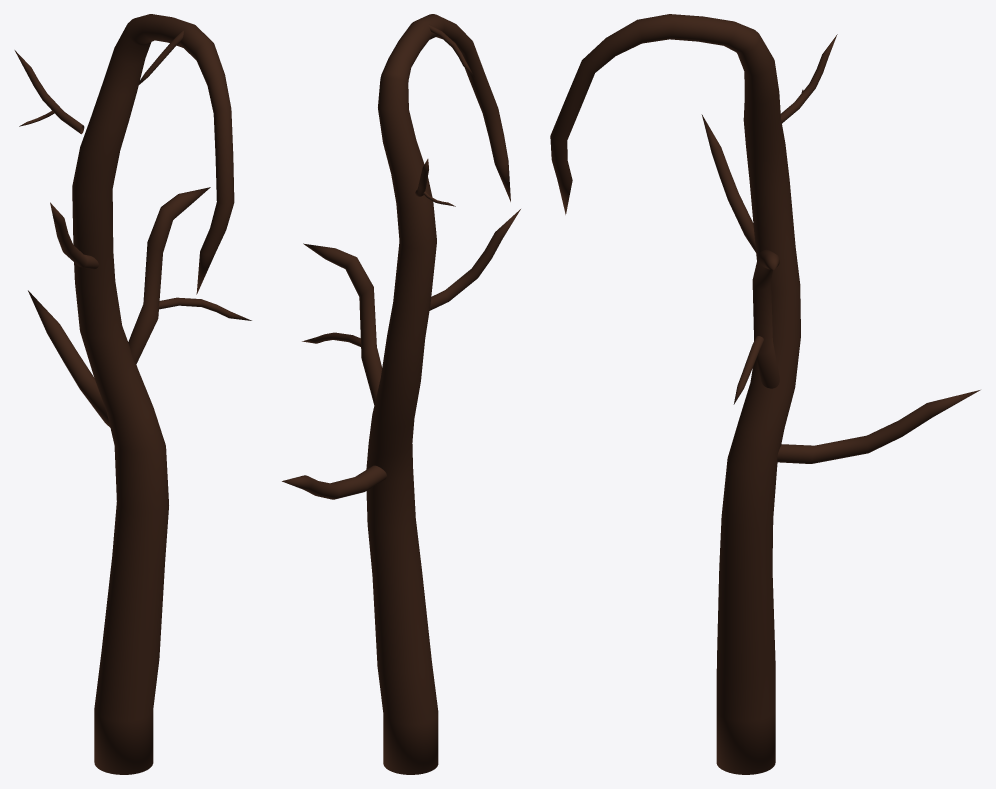
File: dead_2.glb
3 renders of one model, left to right at view 1: azimuth 30°, elevation 25°; view 2: azimuth 150°, elevation 25°; view 3: azimuth 270°, elevation 25°, orthographic. The views are drawn at different scales.
Visible parts, largest first — view 1: Cylinder; view 2: Cylinder; view 3: Cylinder.
Part boxes in pixels (x1=…): Cylinder: x1=14, y1=14, x2=251, y2=774; Cylinder: x1=282, y1=14, x2=520, y2=774; Cylinder: x1=550, y1=14, x2=980, y2=774.
Size of the model in its own units: 0.6968 by 2.31 by 1.19.
